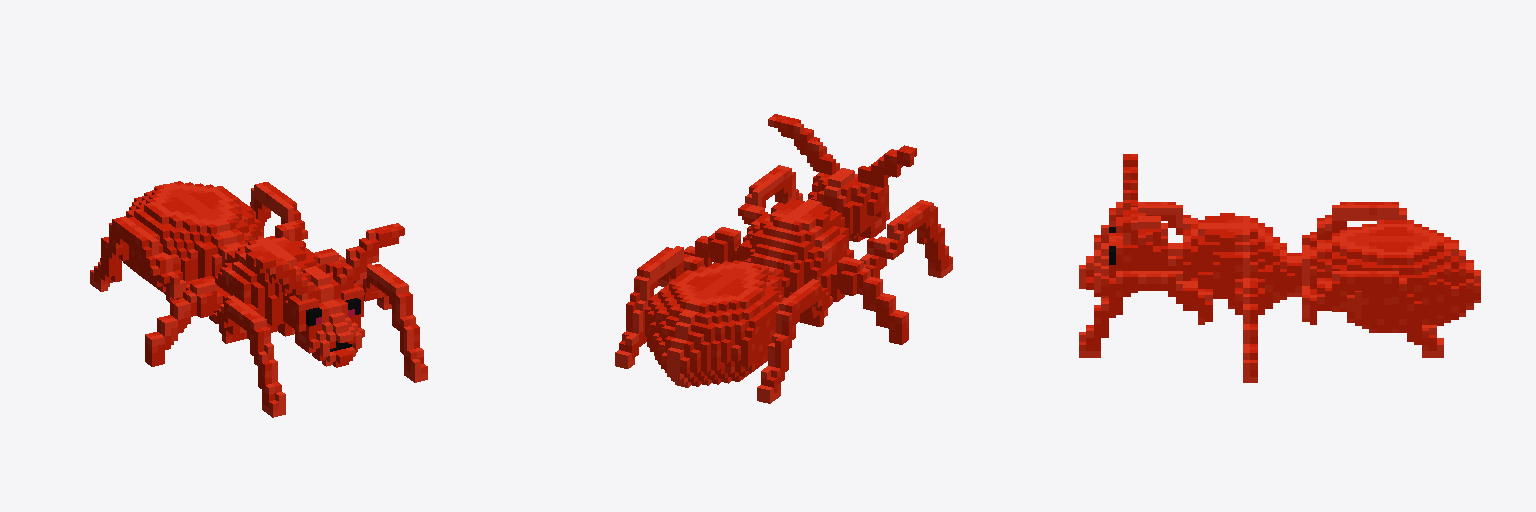
3 views of the same model, side by side, from view 1: azimuth 30°, elevation 25°; view 2: azimuth 150°, elevation 25°; view 3: azimuth 270°, elevation 25° (orthographic).
Visible parts, largest first — view 1: object 1; view 2: object 1; view 3: object 1.
Part boxes in pixels (bbox=[...]): object 1: bbox=[90, 181, 427, 417]; object 1: bbox=[615, 114, 952, 403]; object 1: bbox=[1079, 154, 1480, 382].
Bounding box in the file's own units: 3.8 × 2 × 5.4.
Materials: 1 (1 with a texture image).